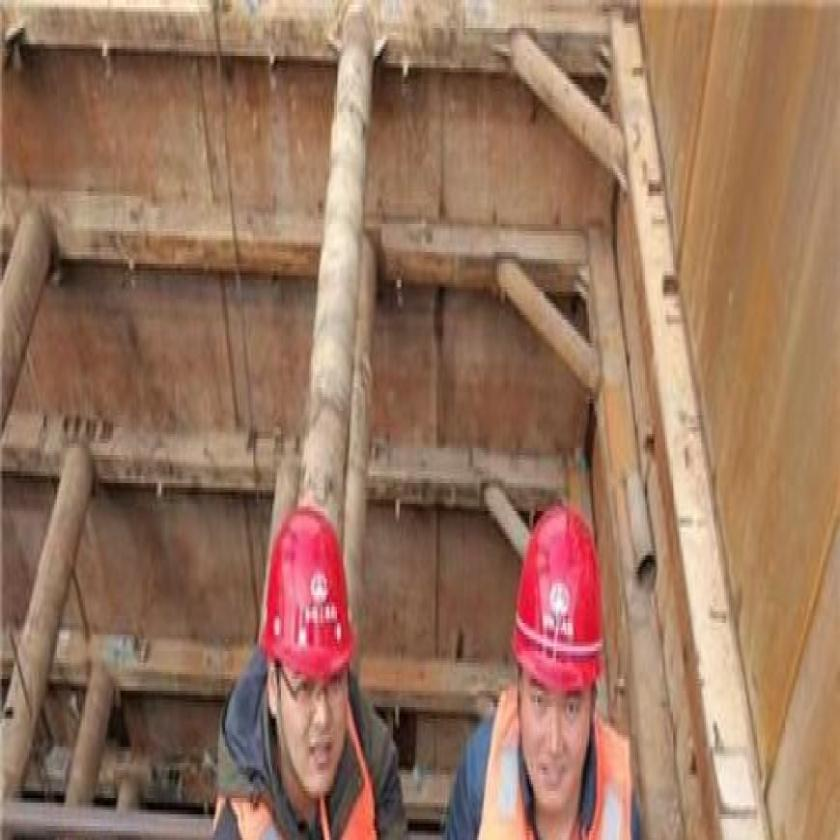Con_casco: (257, 505, 359, 812), (513, 499, 606, 793)
